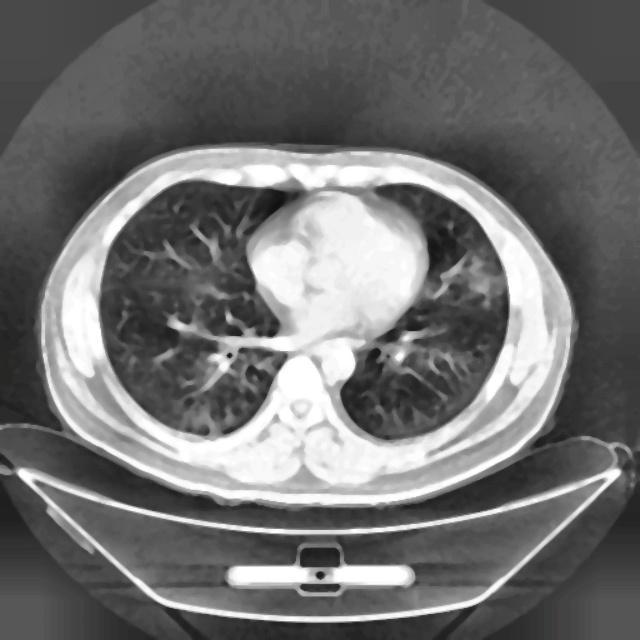covid: (37, 141, 576, 507)
